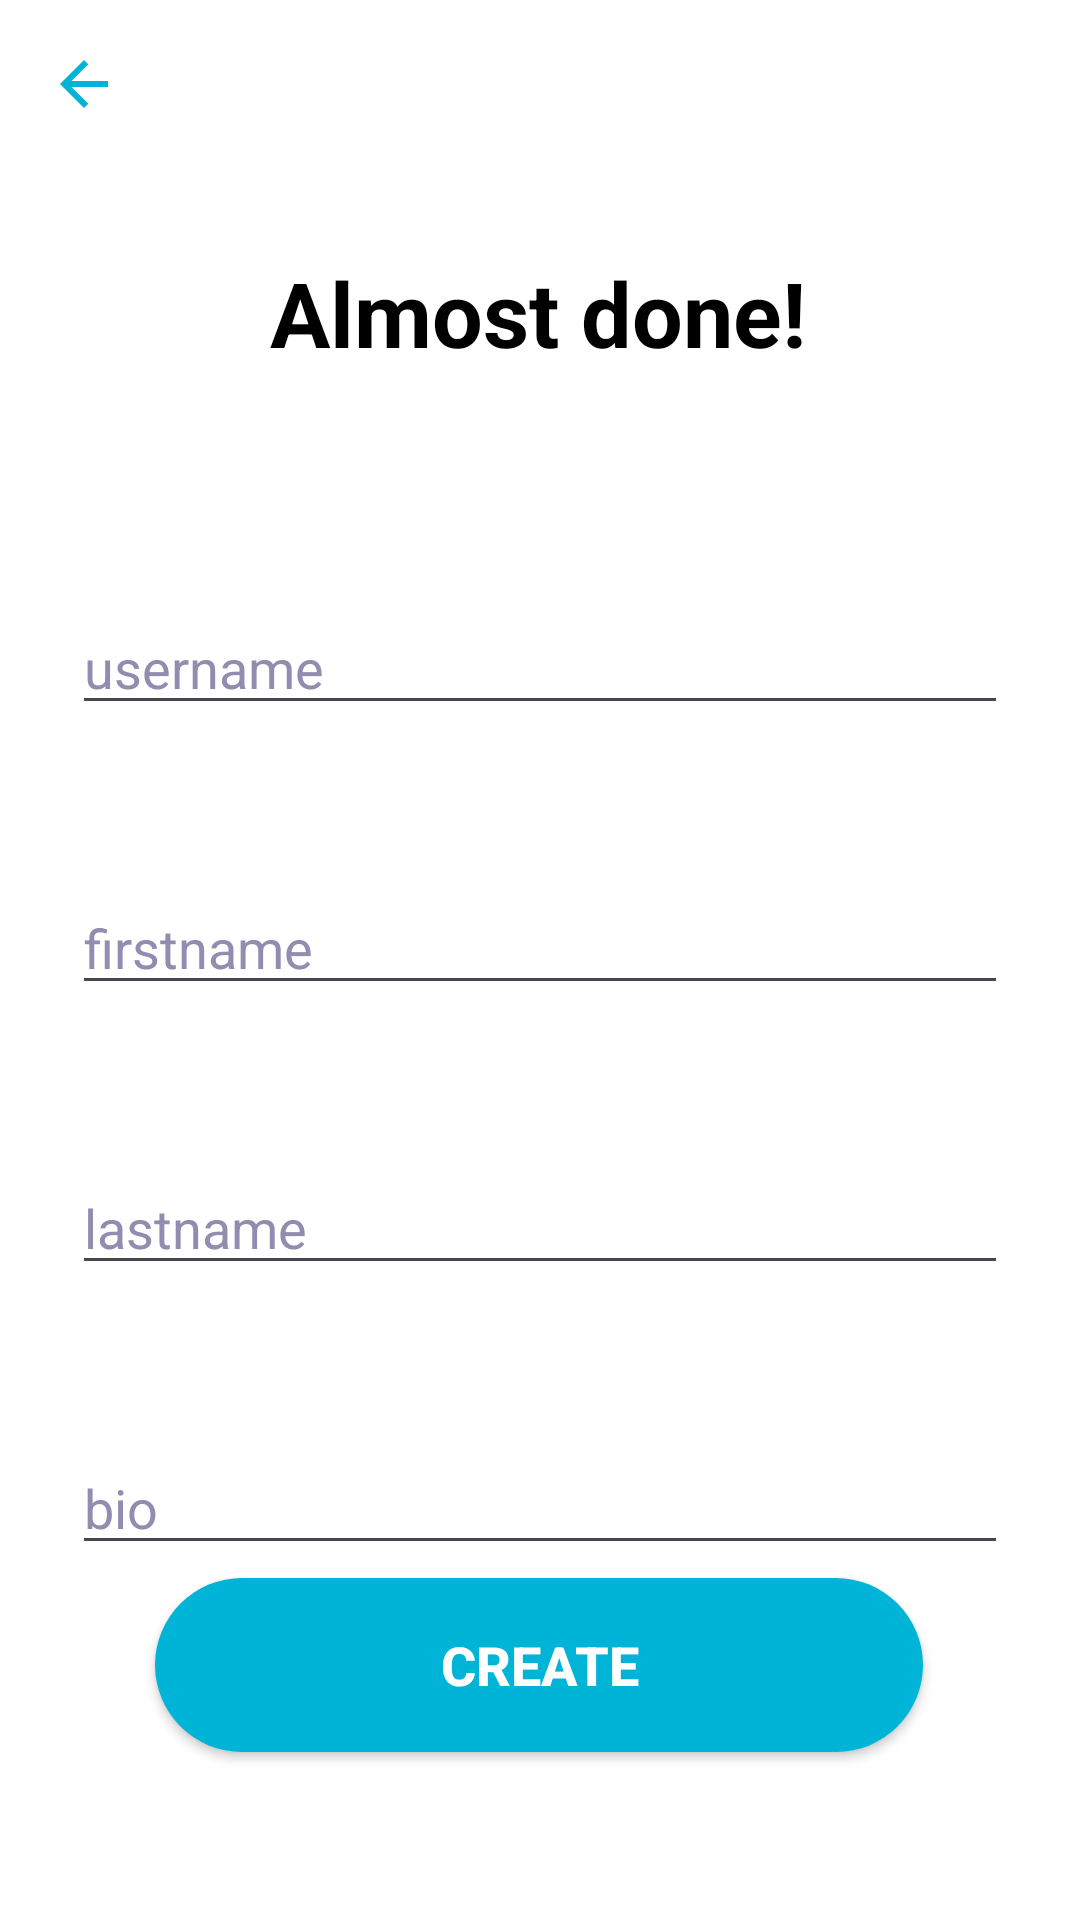

Icon click points for this 1080px x 1920px phone screenshot, format (x,y):
arrow: (84,84)
